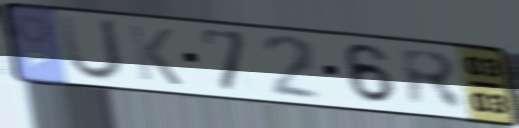2: (257, 32, 330, 103)
6: (338, 41, 401, 107)
7: (196, 25, 252, 95)
K: (126, 22, 186, 89)
R: (394, 44, 470, 114)
U: (55, 12, 128, 85)
